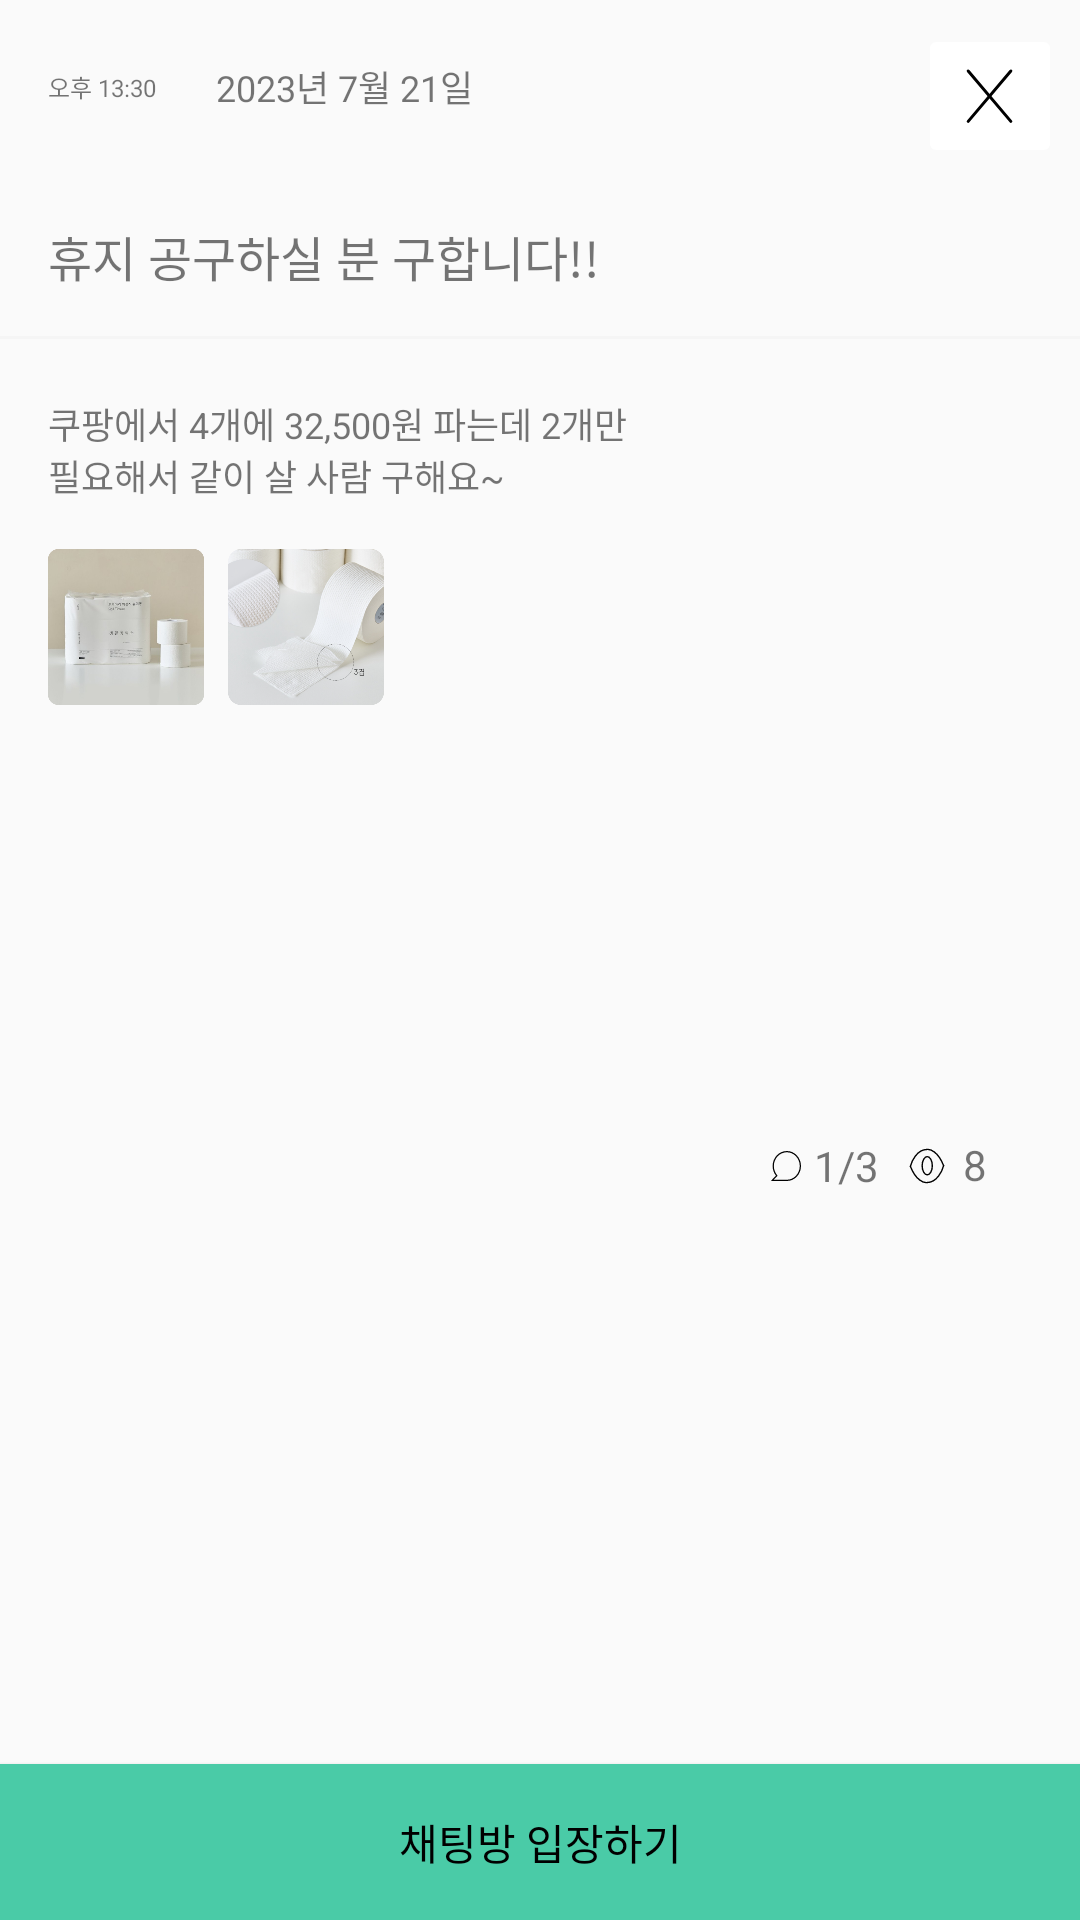

Icons on this 1080 x 1920 Android screen, each with the point to tap as (x=x, y=y):
chat: (x=786, y=1166)
close: (x=989, y=96)
view: (x=927, y=1166)
